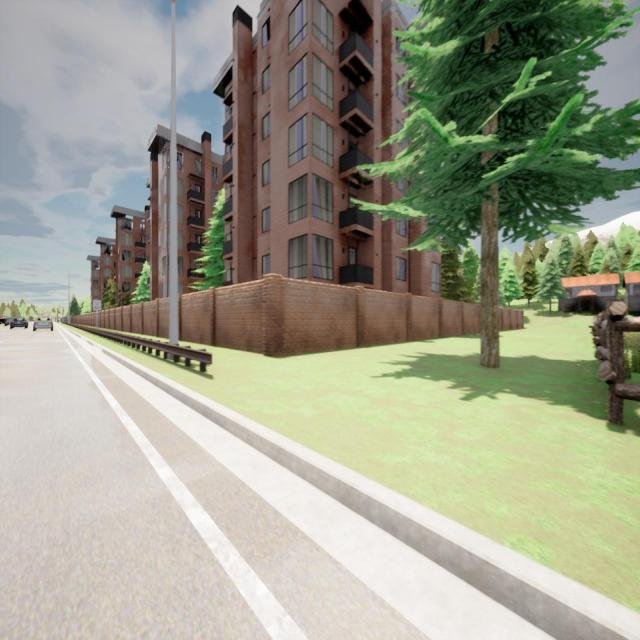Traffic_Signs: (93, 300, 101, 310)
Vehicle: (33, 316, 53, 331), (10, 318, 28, 330), (0, 315, 10, 327)
